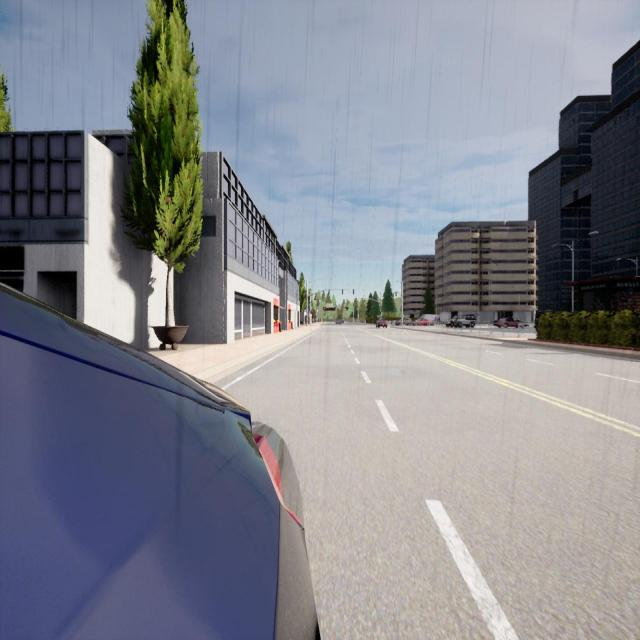Vehicle: (0, 284, 318, 638), (492, 317, 528, 328), (412, 314, 440, 326), (456, 314, 476, 328), (446, 315, 458, 328), (395, 318, 412, 326), (376, 318, 387, 329), (336, 319, 344, 325)
traffic_light: (328, 289, 330, 294), (400, 306, 402, 311), (395, 292, 397, 296), (392, 293, 393, 298), (353, 289, 354, 294), (342, 290, 343, 294)
